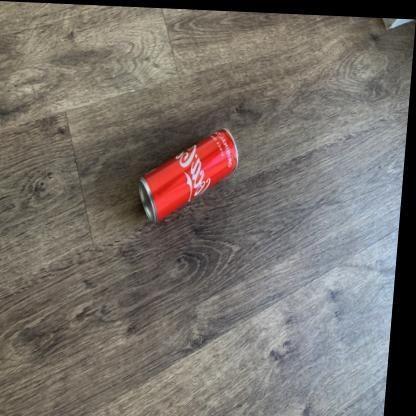trash: (139, 129, 237, 222)
